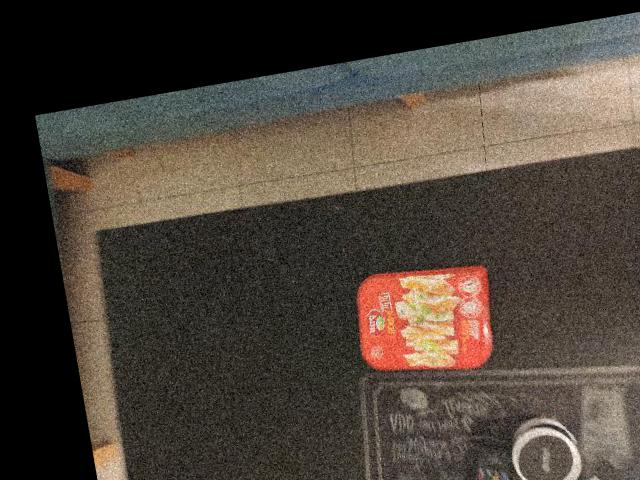cheese: (350, 246, 517, 381)
